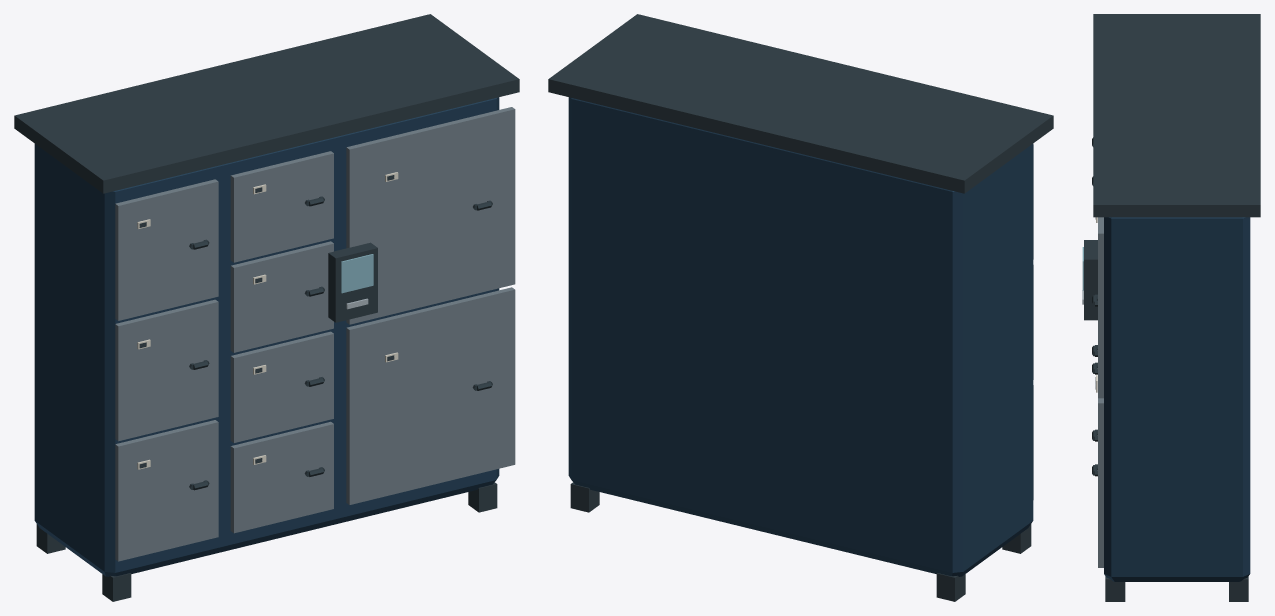
Rendered from b14_electronic_parcel_locker.glb.
The picture shows the model from 3 angles, left to right: view 1: azimuth 30°, elevation 25°; view 2: azimuth 150°, elevation 25°; view 3: azimuth 270°, elevation 25°; orthographic projection. The views are drawn at different scales.
Visible parts, largest first — view 1: b14_electronic_parcel_locker; view 2: b14_electronic_parcel_locker; view 3: b14_electronic_parcel_locker.
Boxes of the visible parts, <box> form: b14_electronic_parcel_locker: <box>14,14,519,601</box>; b14_electronic_parcel_locker: <box>548,14,1053,601</box>; b14_electronic_parcel_locker: <box>1082,14,1260,601</box>.
Bounding box in the file's own units: 2.16 × 2.13 × 0.8535.
